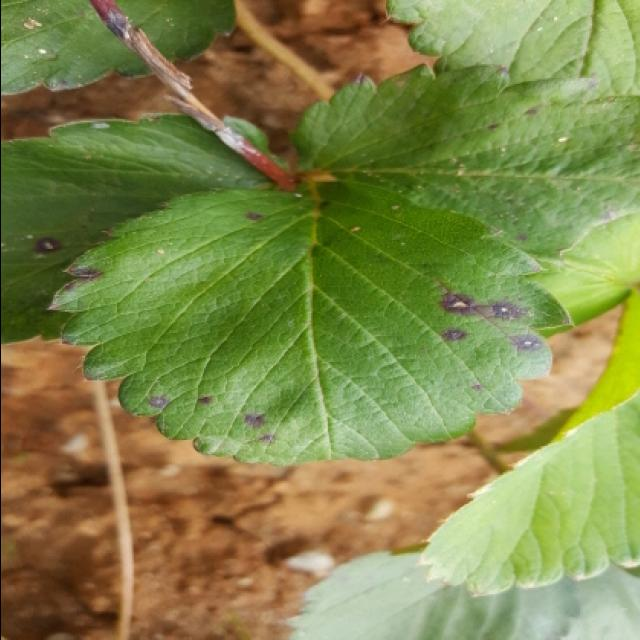Leaf Spot: (47, 176, 574, 467), (293, 61, 640, 264), (2, 113, 291, 345)
